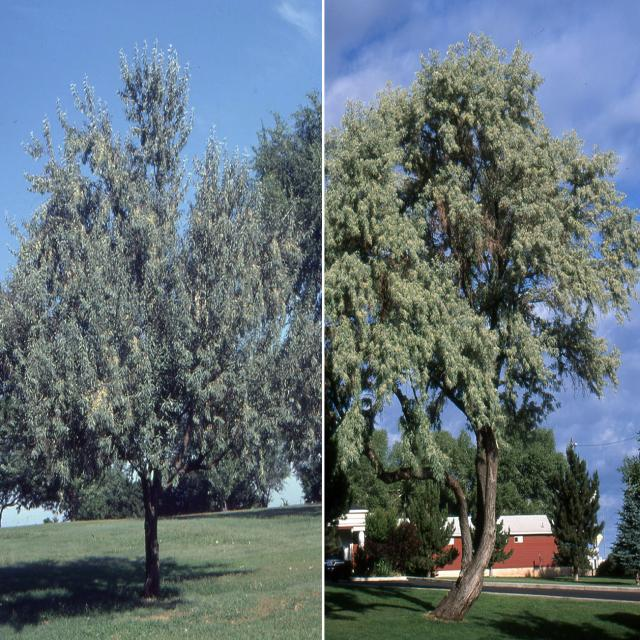Elaeagnus angustifolia: (324, 38, 640, 613), (0, 31, 320, 598)
